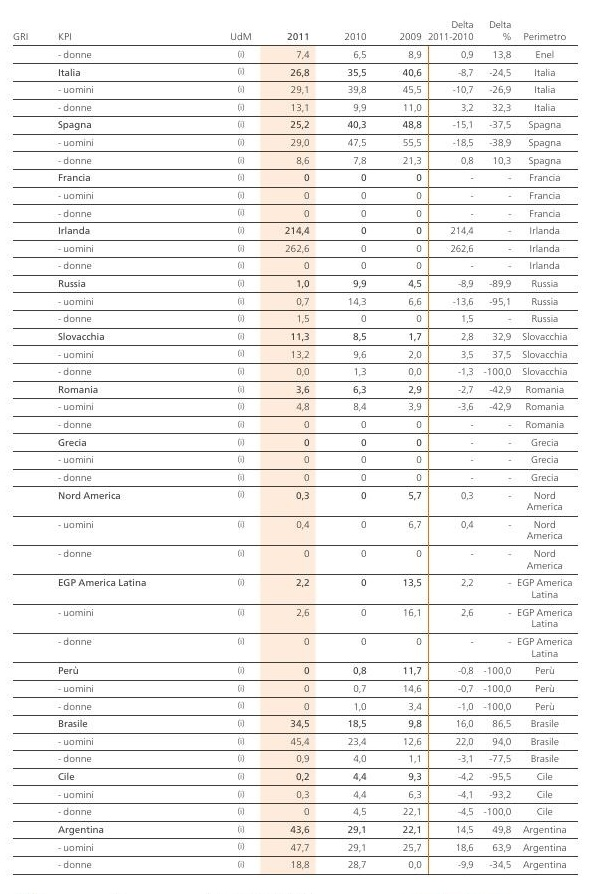table: (0, 0, 600, 894)
